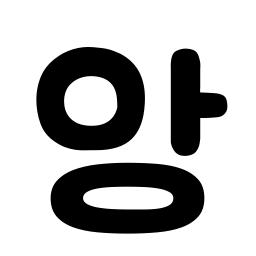Gaji: (159, 81, 217, 134)
